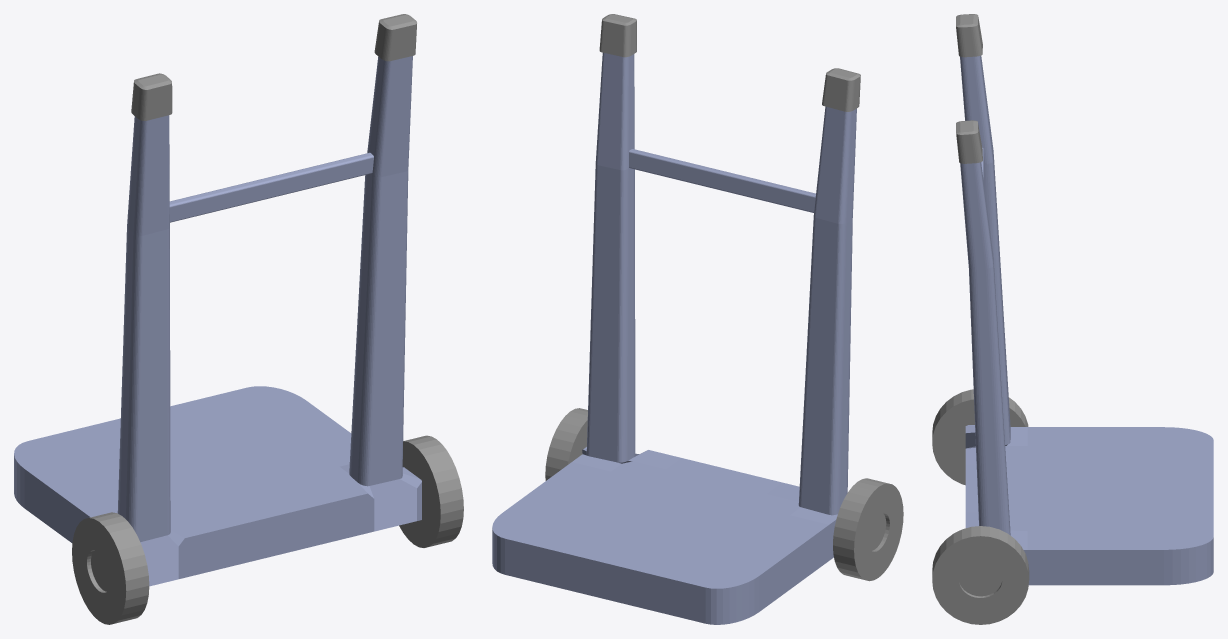
Rendered from barrow.fbx.
3 renders of one model, left to right at view 1: azimuth 30°, elevation 25°; view 2: azimuth 150°, elevation 25°; view 3: azimuth 270°, elevation 25°, orthographic. The views are drawn at different scales.
Parts seen in each view (by area): view 1: Cube; view 2: Cube; view 3: Cube.
Boxes of the visible parts, box(x1,y1,x2,y2) form: Cube: box(14, 14, 463, 624); Cube: box(492, 14, 903, 624); Cube: box(932, 14, 1213, 624).
Bounding box in the file's own units: 72.59 × 110 × 58.63.
